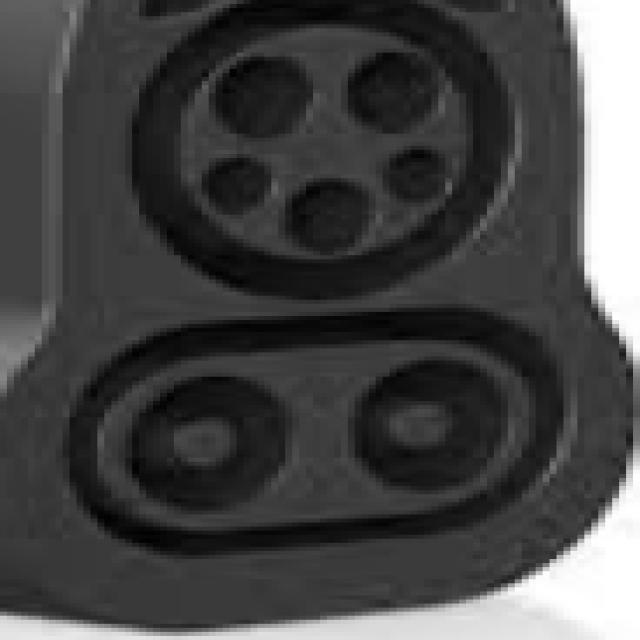CCS1: (63, 0, 632, 633)
